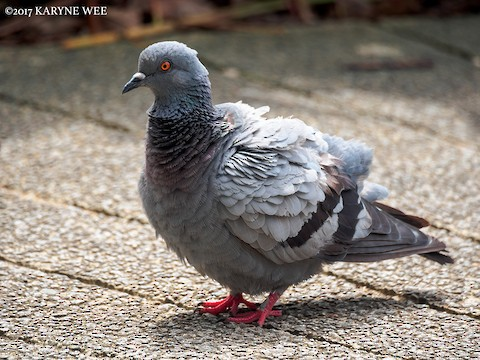pigeon: (118, 38, 457, 329)
